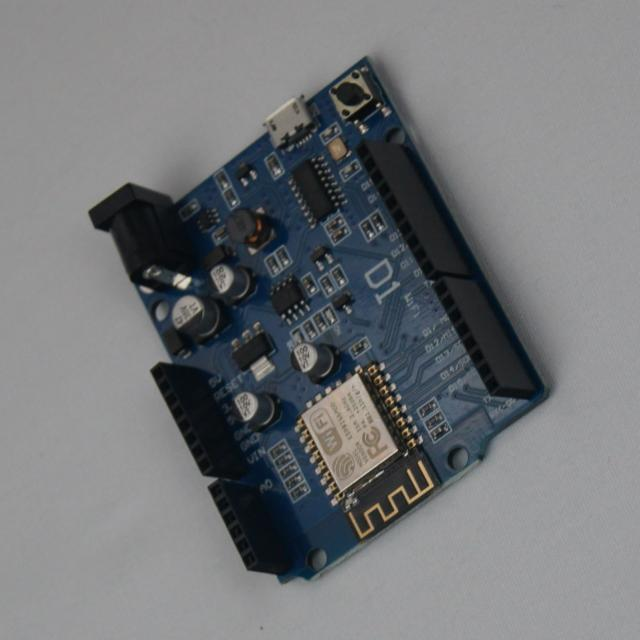Arduino Uno WiFi Shield: (91, 59, 547, 583)
